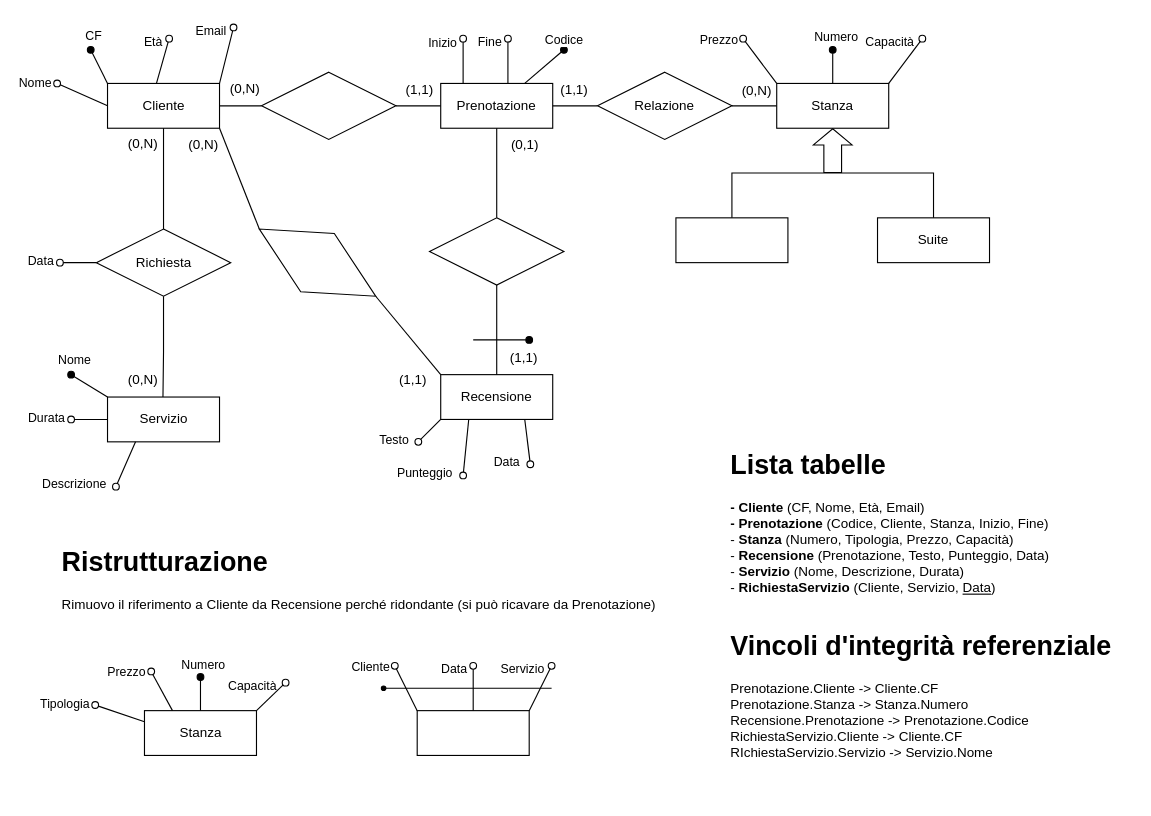
Image size: 1151x816. Some labels were removed from this diagram. The centre of each missing label's shape, as x and y in pixels:
Base: the point at 731,240
Creazione: the point at 317,262
Effettuazione: the point at 328,105
RichiestaServizio: the point at 472,732
Riguardo: the point at 496,251
